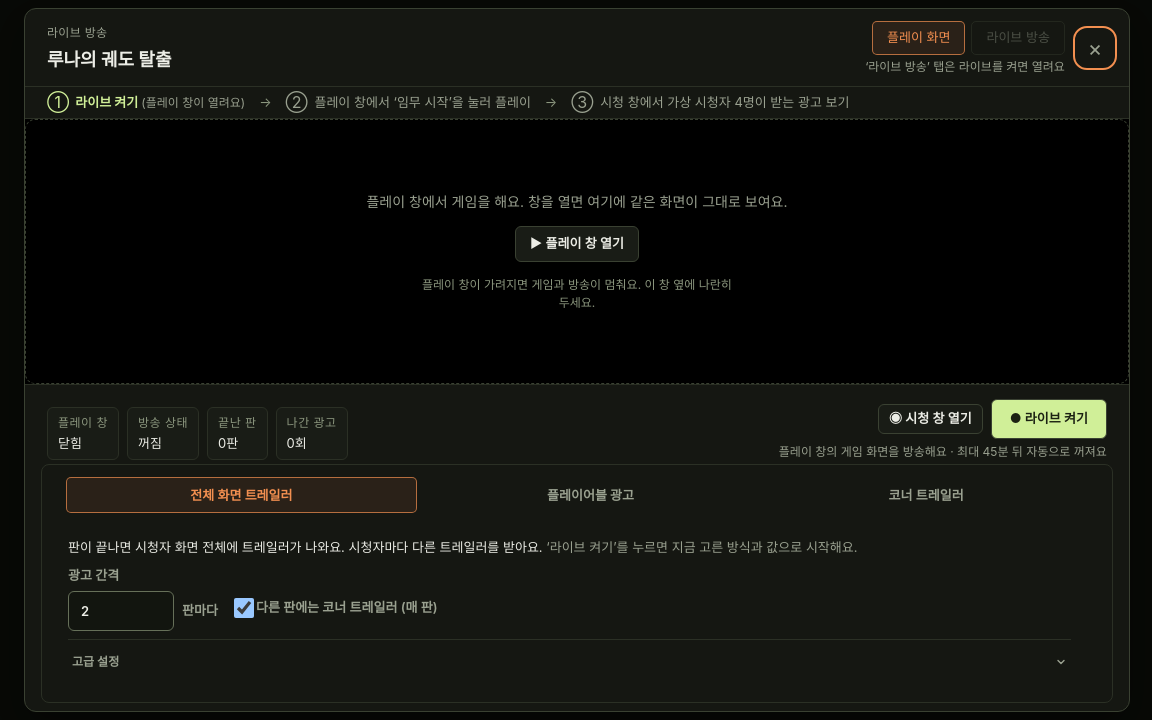
Test: the 플레이어블 tab starts no server by itself: 미리 켜기 does, with the price on it (R20-06) › 라이브 켜기 says what a playable broadcast costs, on that tab only
The image size is (1152, 720).
Click the tab with id "adtype-tab-playable" at point(591, 495), box top-left (423, 477), bottom-right (758, 513)
Wait 4000 ms
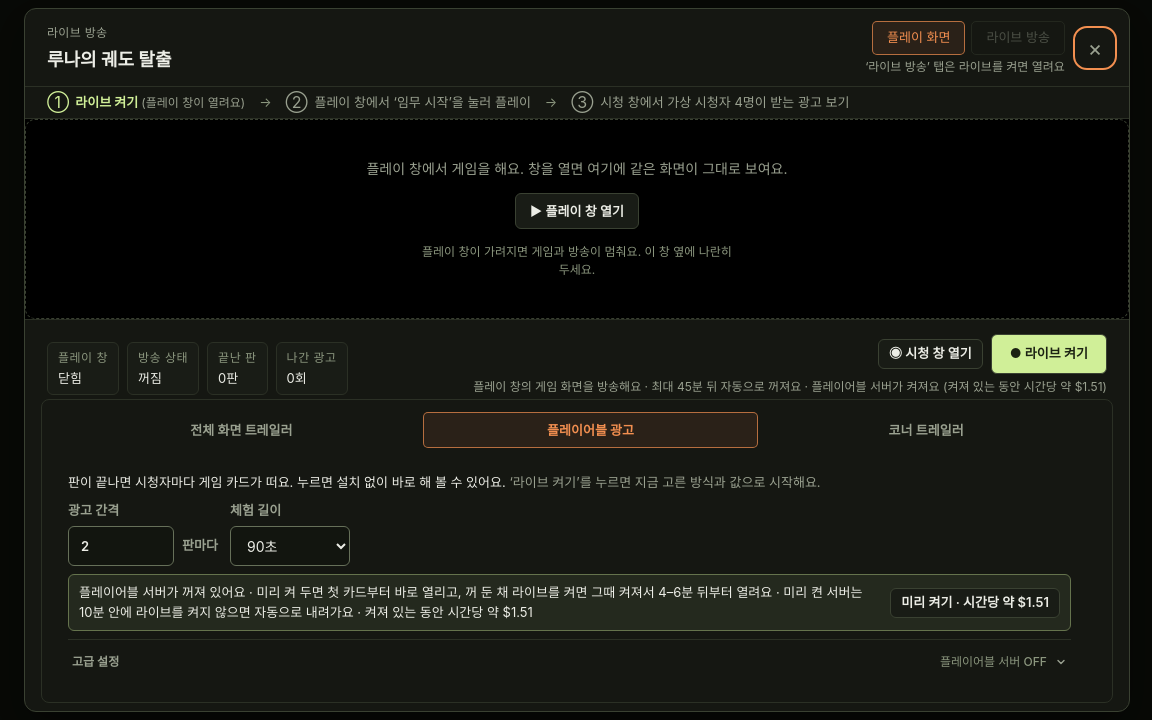
Now the text with class "live-go-does" reads "플레이 창의 게임 화면을 방송해요 · 최대 45분 뒤 자동으로 꺼져요 · 플레이어블 서버가 켜져요 (켜져 있는 동안 시간당 약 $1.51)", box top-left (473, 379), bottom-right (1107, 395)
Click the tab with id "adtype-tab-corner" at point(926, 430), box top-left (764, 412), bottom-right (1088, 448)
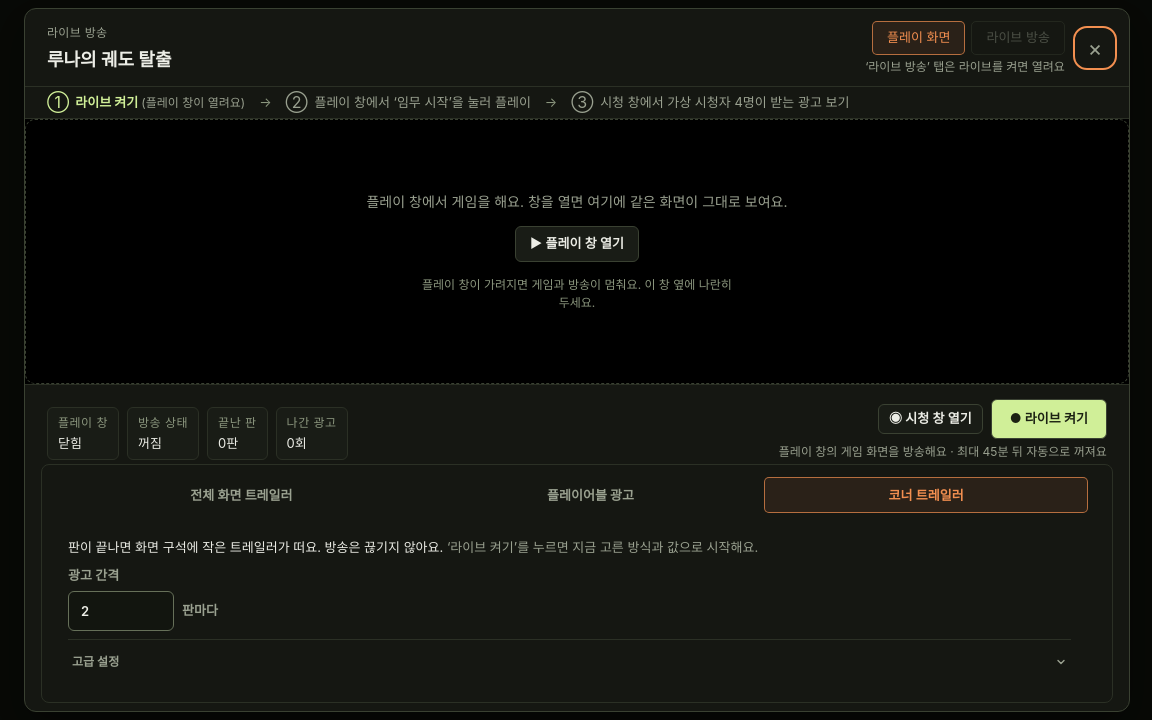
Now the text with class "live-go-does" no longer shows "플레이어블 서버"
